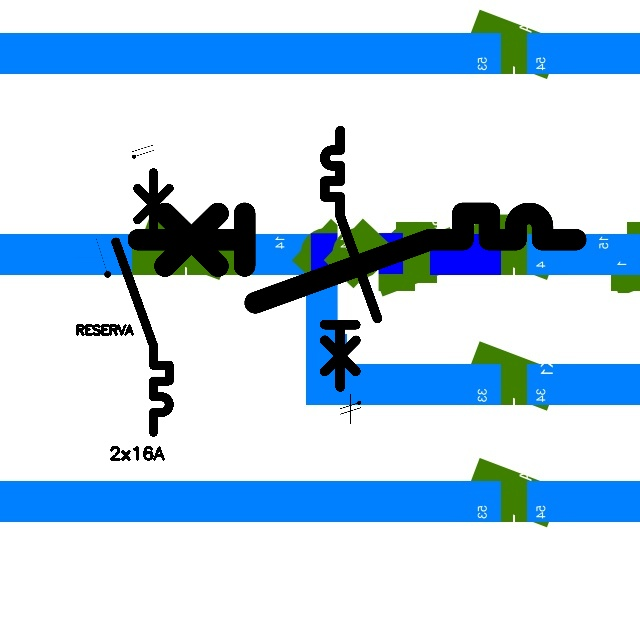interruptor_termomagnetico: (127, 202, 587, 314), (109, 165, 176, 438), (318, 124, 384, 394)
